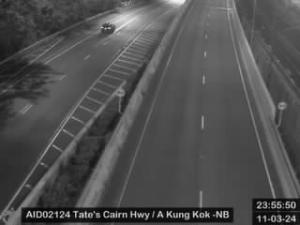vehicle: (100, 22, 116, 34)
